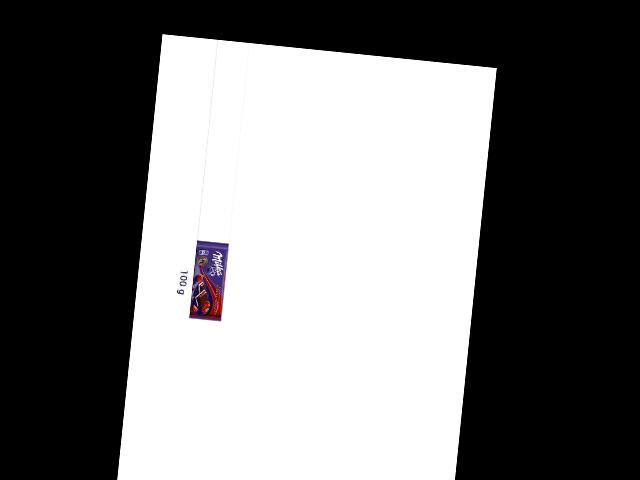chocolate: (185, 240, 229, 321)
